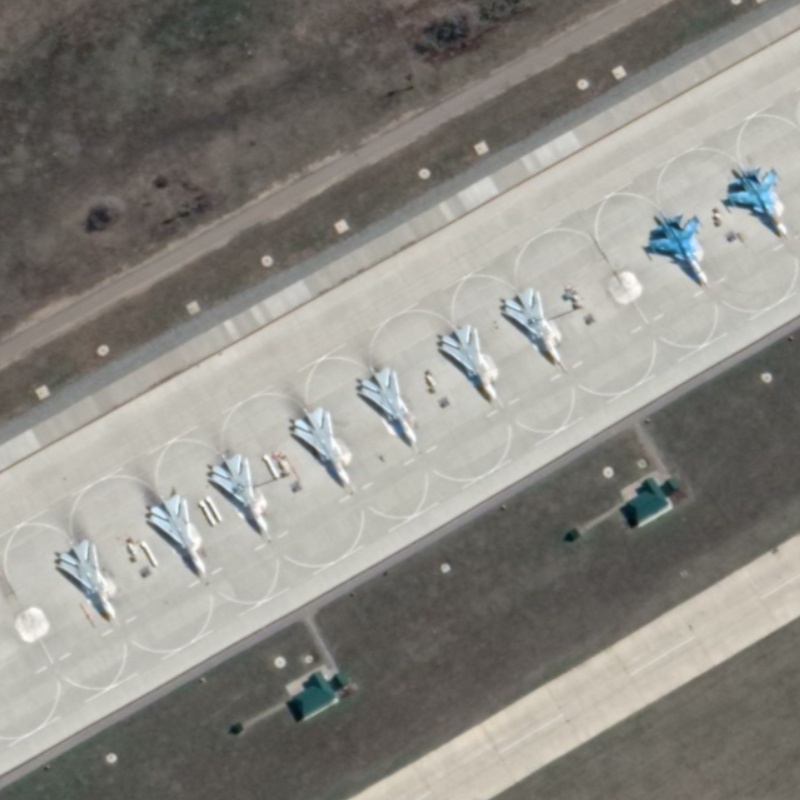A19: (646, 209, 711, 285), (725, 162, 788, 237)
A20: (208, 452, 271, 533), (148, 492, 208, 575), (58, 538, 119, 619), (360, 365, 421, 446), (292, 406, 353, 486), (440, 322, 499, 402), (503, 286, 563, 364)
